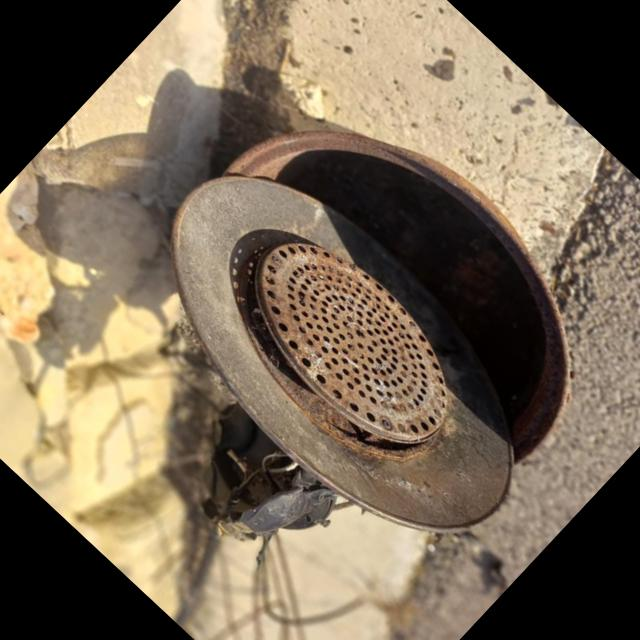Other litter: (166, 119, 575, 547)
